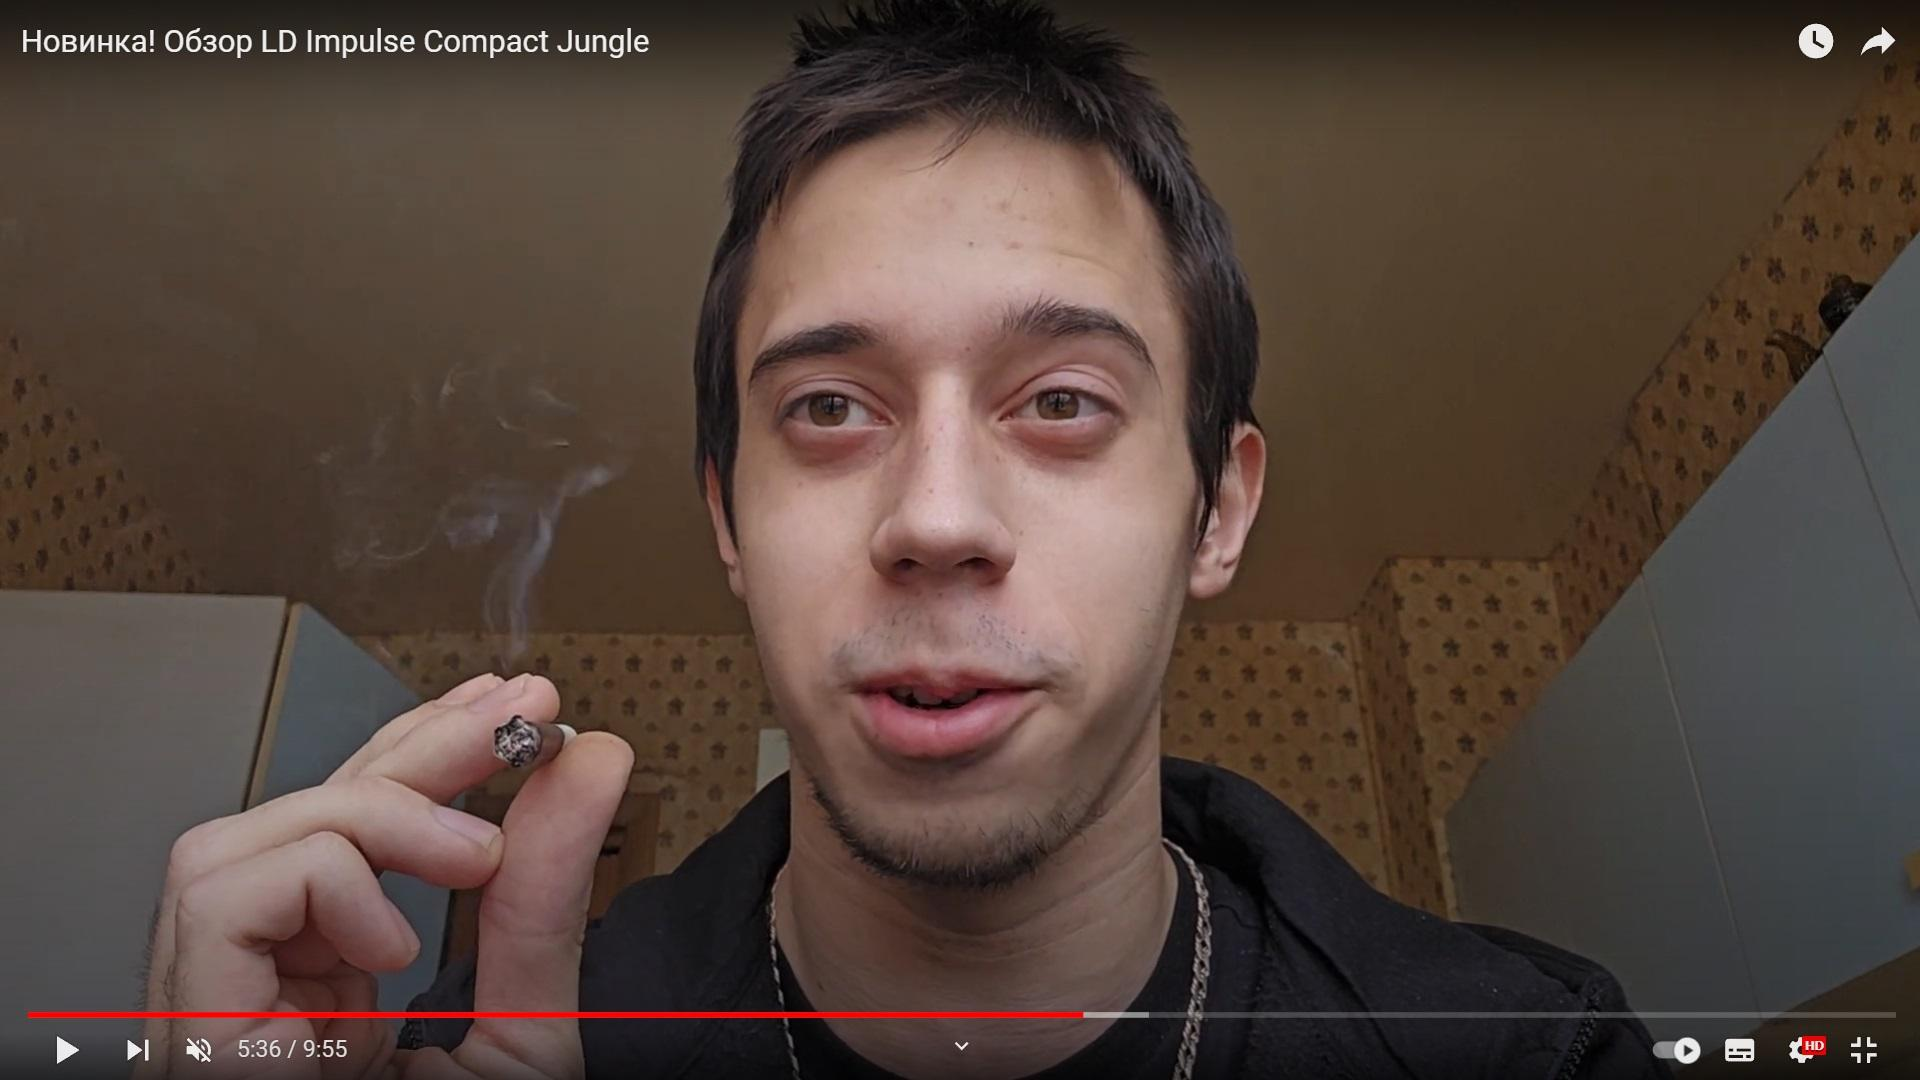cigarette: (495, 716, 574, 769)
